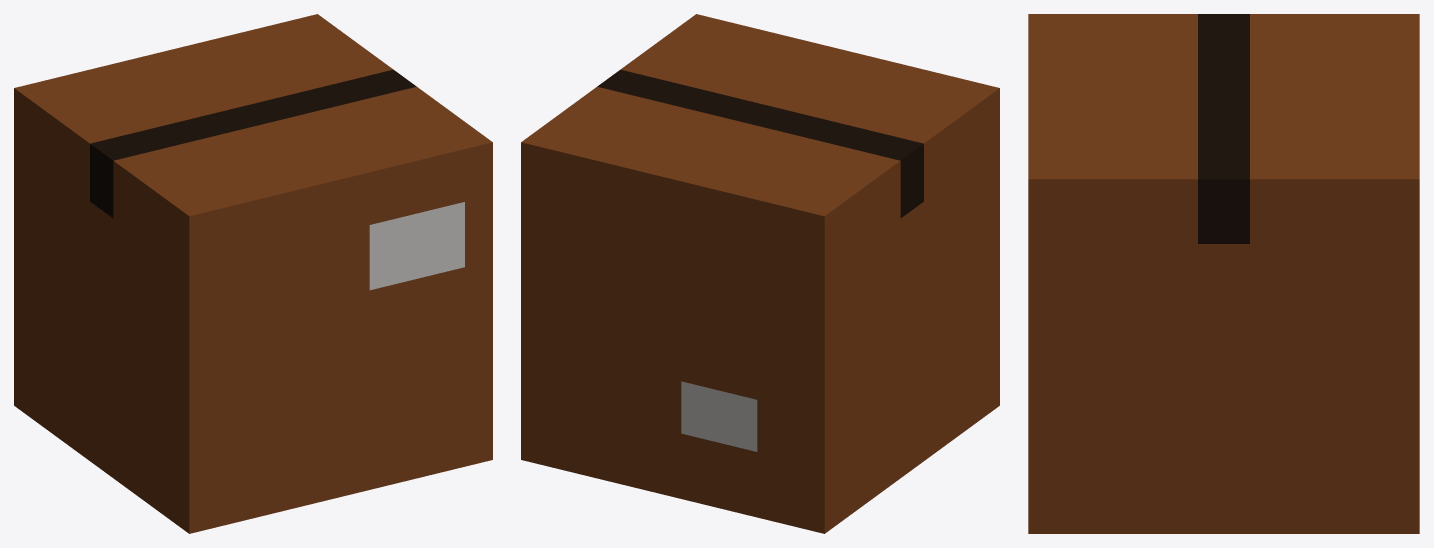
3 views of the same model, side by side, from view 1: azimuth 30°, elevation 25°; view 2: azimuth 150°, elevation 25°; view 3: azimuth 270°, elevation 25° (orthographic). The views are drawn at different scales.
Visible parts, largest first — view 1: Box, Seal, Paper; view 2: Box, Seal, Paper; view 3: Box, Seal.
Boxes of the visible parts, <box> form: Box: <box>14,14,492,533</box>; Seal: <box>90,69,416,217</box>; Paper: <box>369,202,464,290</box>; Box: <box>521,14,999,533</box>; Seal: <box>597,69,923,217</box>; Paper: <box>681,381,757,451</box>; Box: <box>1028,14,1419,533</box>; Seal: <box>1198,14,1249,243</box>.
Size of the model in its own units: 53.86 by 53.86 by 53.86.
